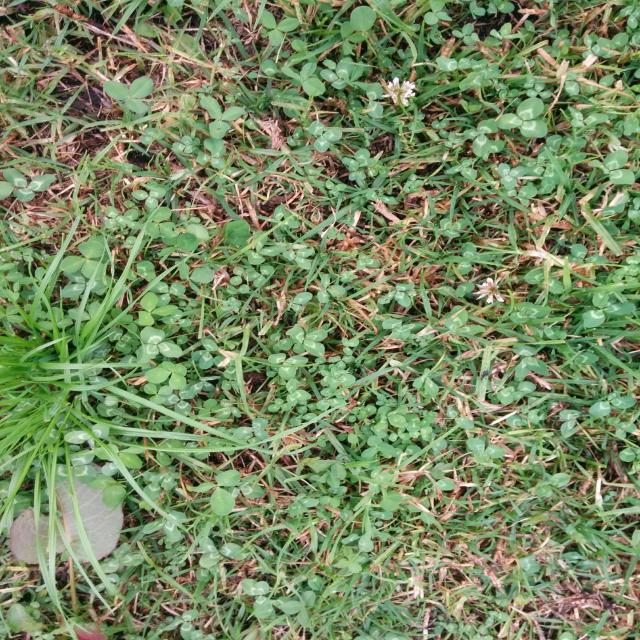Four Leaf Clover: (145, 361, 187, 390)
